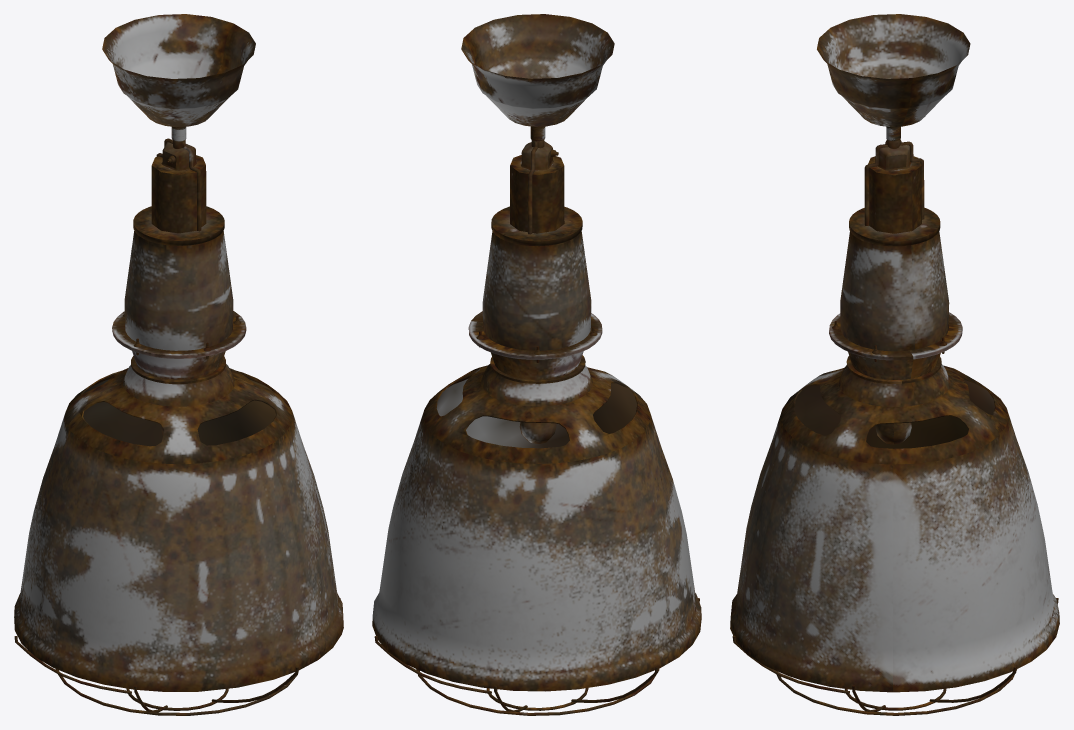
File: Prop_RustyOverheadLamp.fbx
The picture shows the model from 3 angles, left to right: view 1: azimuth 30°, elevation 25°; view 2: azimuth 150°, elevation 25°; view 3: azimuth 270°, elevation 25°; orthographic projection.
Parts seen in each view (by area): view 1: Prop_RustyOverheadLamp; view 2: Prop_RustyOverheadLamp; view 3: Prop_RustyOverheadLamp.
Boxes of the visible parts, bbox=[...] form: Prop_RustyOverheadLamp: bbox=[14, 14, 343, 715]; Prop_RustyOverheadLamp: bbox=[372, 14, 701, 715]; Prop_RustyOverheadLamp: bbox=[730, 14, 1059, 715].
Bounding box in the file's own units: 27.28 × 58.61 × 27.23.
